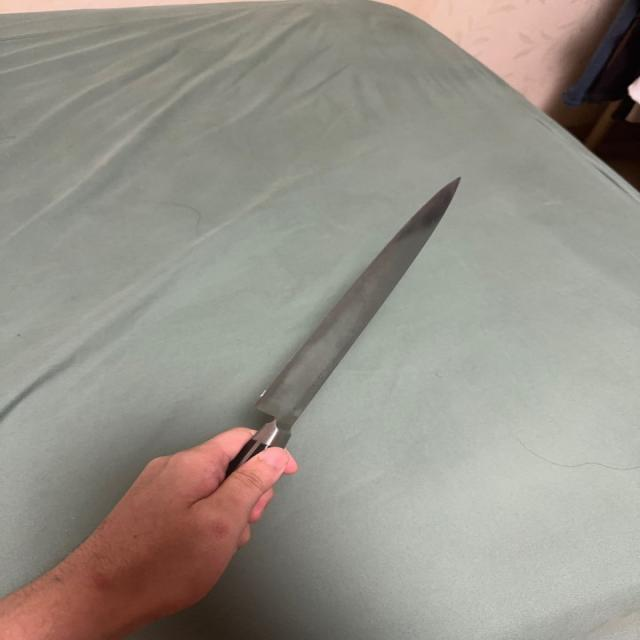knife: (224, 173, 464, 468)
